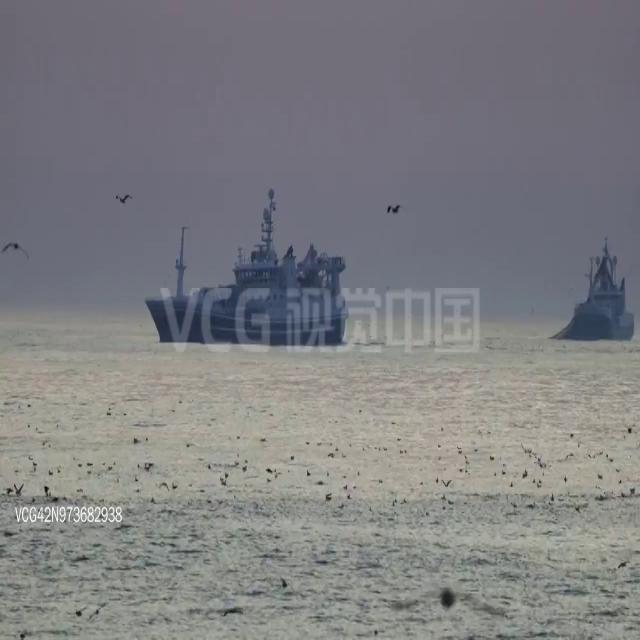houseboat: (145, 210, 343, 352), (566, 239, 636, 347)
